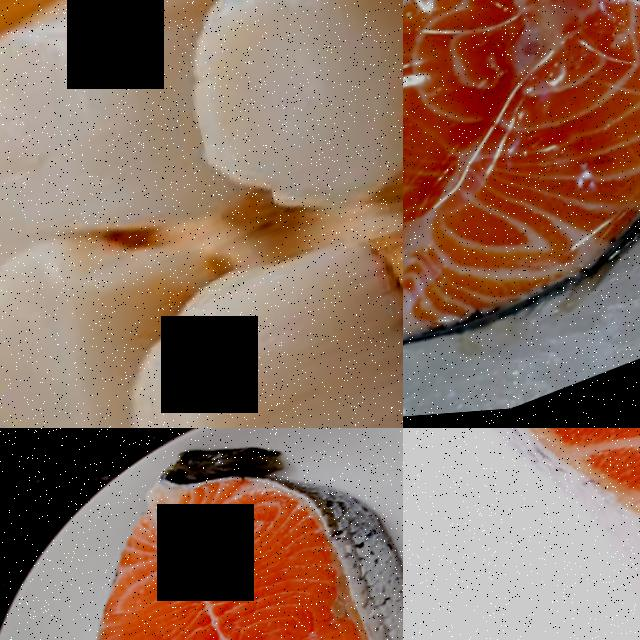salmon: (403, 0, 640, 402), (29, 428, 403, 640), (403, 428, 640, 640)
sea scallops: (143, 0, 403, 268), (85, 215, 403, 428), (0, 0, 234, 265), (0, 210, 177, 428)
